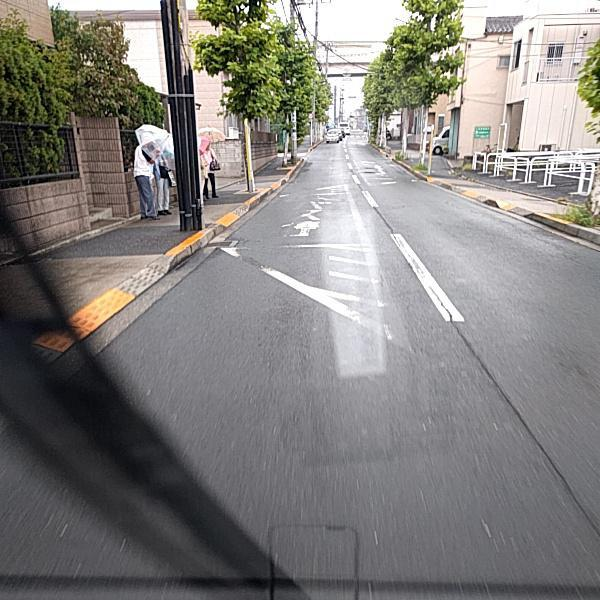D44: (222, 196, 415, 365)
